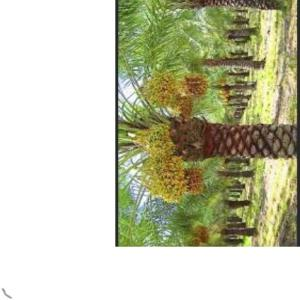palm tree: (117, 0, 298, 246)
